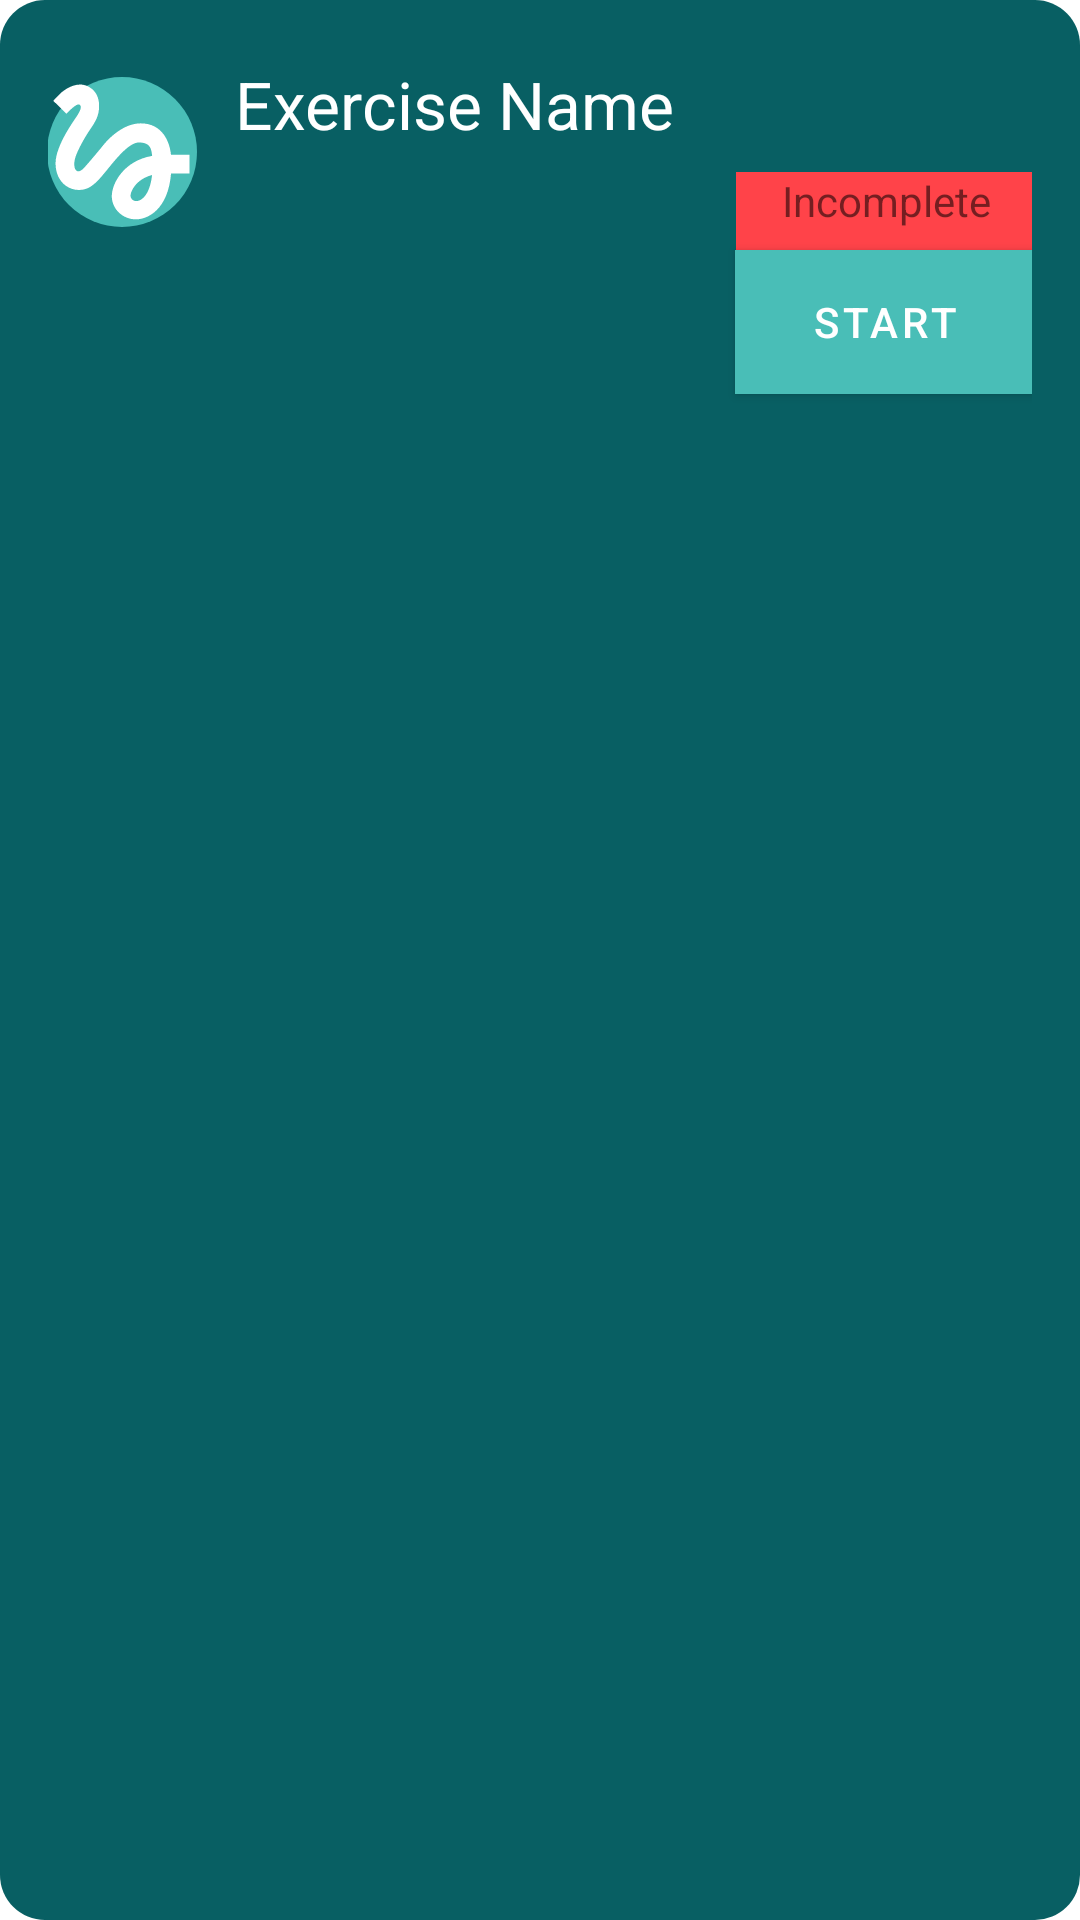

Screen size 1080w x 1920h. Icon name, then its box in pixels as (x1, y1, x2, y2):
tongue twister exercise: (48, 77, 197, 227)
